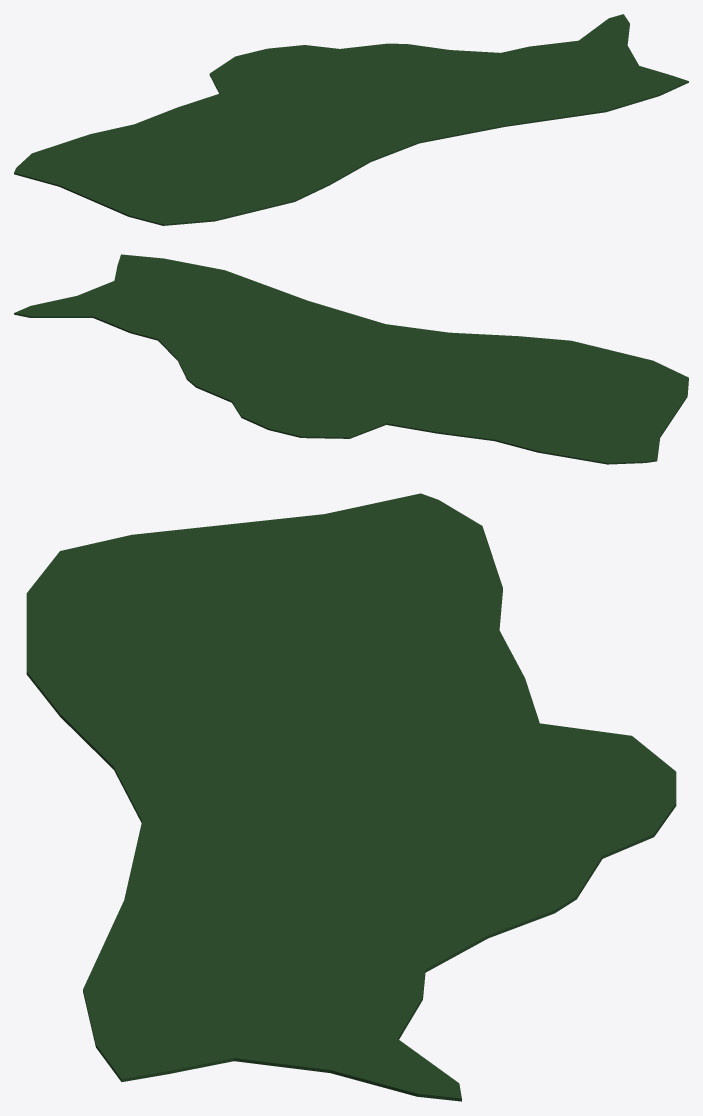
File: Chão Jogável 3.fbx
3 renders of one model, top to bottom at view 1: azimuth 30°, elevation 25°; view 2: azimuth 150°, elevation 25°; view 3: azimuth 270°, elevation 25°, orthographic. The views are drawn at different scales.
Parts seen in each view (by area): view 1: Plane; view 2: Plane; view 3: Plane.
Boxes of the visible parts, bbox=[...] form: Plane: bbox=[14, 14, 688, 225]; Plane: bbox=[14, 254, 688, 464]; Plane: bbox=[26, 493, 676, 1101].
Bounding box in the file's own units: 14101 × 33.48 × 6398.
